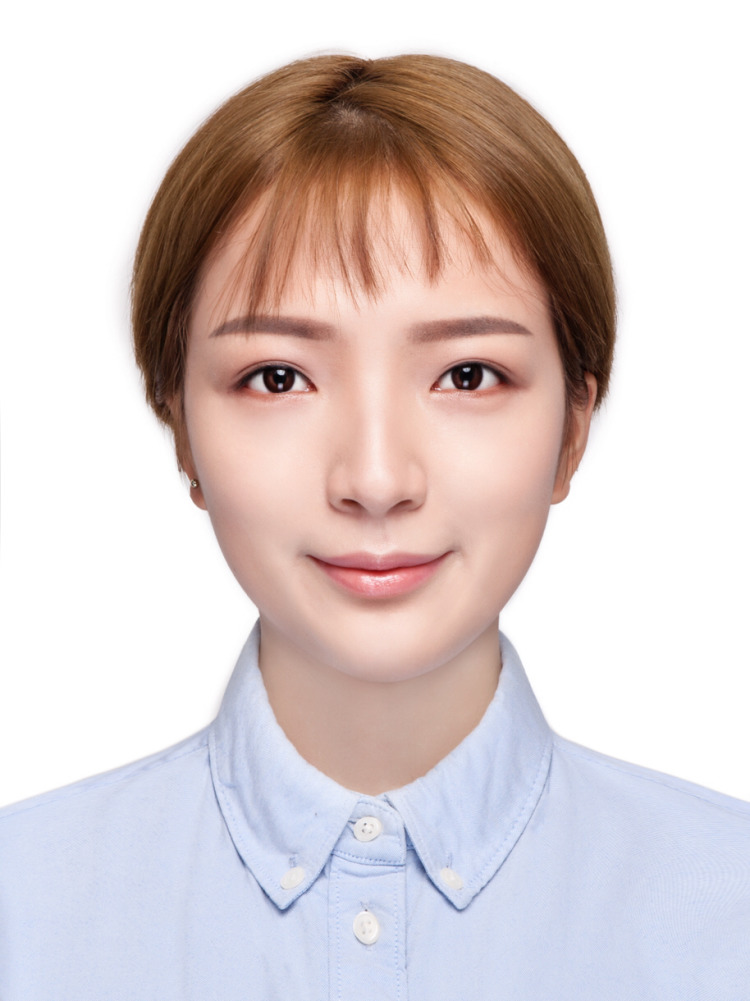unmask: (179, 247, 574, 688)
